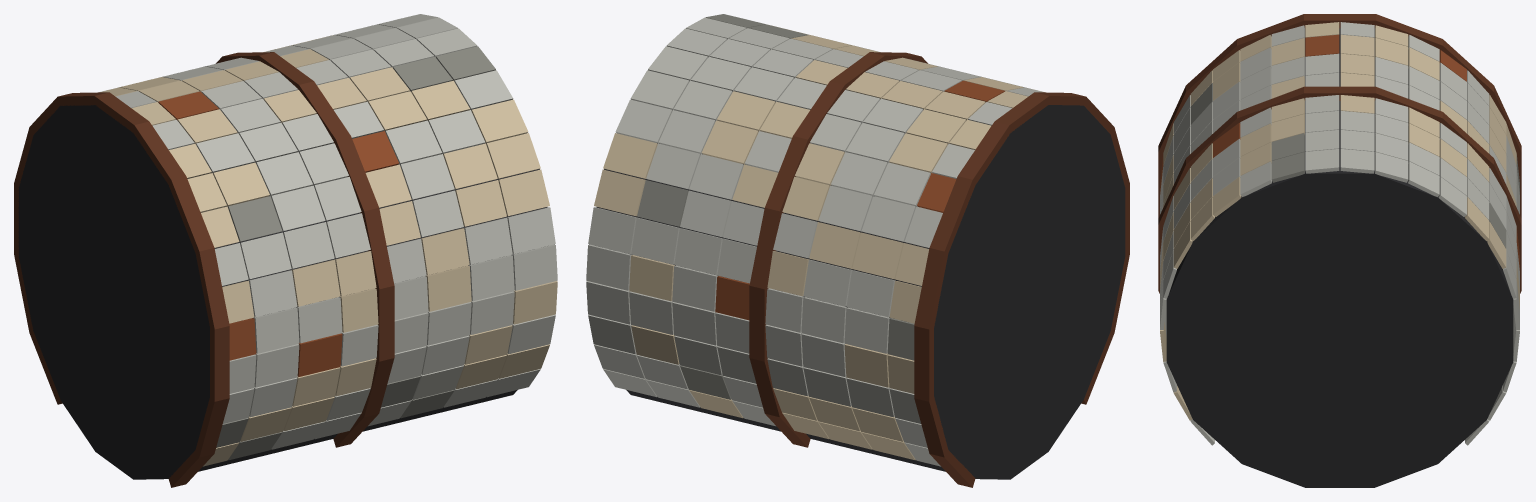
Rendered from ship_hull_ring.glb.
3 renders of one model, left to right at view 1: azimuth 30°, elevation 25°; view 2: azimuth 150°, elevation 25°; view 3: azimuth 270°, elevation 25°, orthographic. The views are drawn at different scales.
Visible parts, largest first — view 1: ship_hull_ring; view 2: ship_hull_ring; view 3: ship_hull_ring.
Boxes of the visible parts, x1,y1,x2,y2 form: ship_hull_ring: (14,14,557,487); ship_hull_ring: (586,14,1129,487); ship_hull_ring: (1158,14,1521,487).
Size of the model in its own units: 32 by 31.53 by 32.27.
